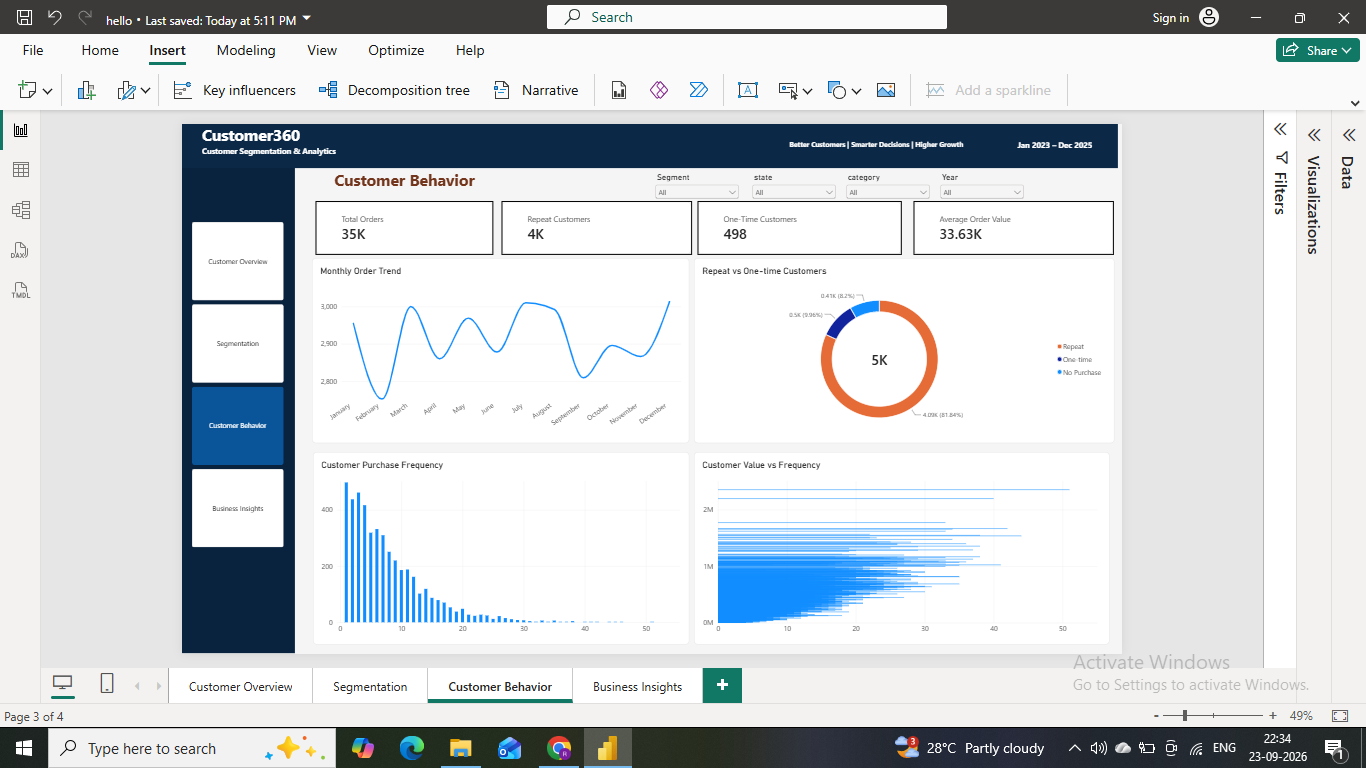

The page's visual inventory and layout, read from the dashboard file:
{"tool":"powerbi","page":{"name":"Customer Behavior","canvas":[1920,1080],"ordinal":2},"visuals":[{"type":"shape","box":[0,0,1910,90],"z":0},{"type":"textbox","box":[40,0,382.5,120],"z":1000},{"type":"textbox","box":[40.3,45.4,383,45.4],"z":2000},{"type":"shape","box":[0,90,230,990],"z":3000},{"type":"textbox","box":[847.5,32.5,747.5,57.5],"z":5000},{"type":"textbox","box":[1632.5,32.5,225,57.5],"z":6000},{"type":"textbox","box":[231.1,91.1,446.7,55.6],"z":7000},{"type":"slicer","fields":{"Values":["customer360_db customer360.Segment"]},"box":[961.4,97.1,180,70],"z":8000},{"type":"slicer","fields":{"Values":["customer360_db customers.state"]},"box":[1160,97.1,180,70],"z":9000},{"type":"slicer","fields":{"Values":["customer360_db products.category"]},"box":[1350,97.1,180,70],"z":10000},{"type":"slicer","fields":{"Values":["customer360_db customer360.signup_date.Variation.Date Hierarchy.Year"]},"box":[1542.9,97.1,180,70],"z":11000},{"type":"cardVisual","fields":{"Data":["Measures (3).Total Orders"]},"box":[272,158,364,110],"z":13000},{"type":"cardVisual","fields":{"Data":["Measures (3).Repeat Customers"]},"box":[652,158,390,110],"z":14000},{"type":"cardVisual","fields":{"Data":["Measures (3).One-Time Customers"]},"box":[1052,158,418,110],"z":15000},{"type":"cardVisual","fields":{"Data":["Measures (3).Average Order Value"]},"box":[1492,158,410,110],"z":16000},{"type":"lineChart","title":"Monthly Order Trend","fields":{"Category":["customer360_db orders.order_date.Variation.Date Hierarchy.Month"],"Y":["CountNonNull(customer360_db orders.customer_id)"]},"box":[265,272.5,770,377.5],"z":17000},{"type":"donutChart","title":"Repeat vs One-time Customers","fields":{"Category":["customer360_db customer360.Customer Type"],"Y":["CountNonNull(customer360_db customer360.customer_id)"]},"box":[1045,272.5,857.5,377.5],"z":18000},{"type":"clusteredColumnChart","title":"Customer Purchase Frequency","fields":{"Category":["customer360_db customer360.Frequency"],"Y":["CountNonNull(customer360_db customer360.customer_id)"]},"box":[267.5,670,767.5,392.5],"z":19000},{"type":"clusteredBarChart","title":"Customer Value vs Frequency","fields":{"Category":["customer360_db customer360.Monetary"],"Y":["Sum(customer360_db customer360.Frequency)"]},"box":[1045,670,847.5,392.5],"z":20000},{"type":"pageNavigator","box":[21.3,199.8,187.1,665.4],"z":20001}]}

Visuals, with their boxes on the page's 1920x1080 design canvas (x1, y1, x2, y2). These are canvas units, not pixel positions in the 1366x768 screenshot, which may show the page scaled, cropped or inside an application window:
shape: BBox(0, 0, 1910, 90)
textbox: BBox(40, 0, 422, 120)
textbox: BBox(40, 45, 423, 91)
shape: BBox(0, 90, 230, 1080)
textbox: BBox(848, 32, 1595, 90)
textbox: BBox(1632, 32, 1858, 90)
textbox: BBox(231, 91, 678, 147)
slicer - customer360_db customer360.Segment: BBox(961, 97, 1141, 167)
slicer - customer360_db customers.state: BBox(1160, 97, 1340, 167)
slicer - customer360_db products.category: BBox(1350, 97, 1530, 167)
slicer - customer360_db customer360.signup_date.Variation.Date Hierarchy.Year: BBox(1543, 97, 1723, 167)
cardVisual - Measures (3).Total Orders: BBox(272, 158, 636, 268)
cardVisual - Measures (3).Repeat Customers: BBox(652, 158, 1042, 268)
cardVisual - Measures (3).One-Time Customers: BBox(1052, 158, 1470, 268)
cardVisual - Measures (3).Average Order Value: BBox(1492, 158, 1902, 268)
"Monthly Order Trend" lineChart: BBox(265, 272, 1035, 650)
"Repeat vs One-time Customers" donutChart: BBox(1045, 272, 1902, 650)
"Customer Purchase Frequency" clusteredColumnChart: BBox(268, 670, 1035, 1062)
"Customer Value vs Frequency" clusteredBarChart: BBox(1045, 670, 1892, 1062)
pageNavigator: BBox(21, 200, 208, 865)
